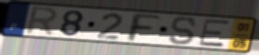2: (95, 12, 125, 41)
8: (59, 9, 85, 37)
E: (197, 19, 231, 48)
F: (127, 12, 163, 43)
R: (23, 5, 61, 38)
S: (168, 16, 199, 46)
